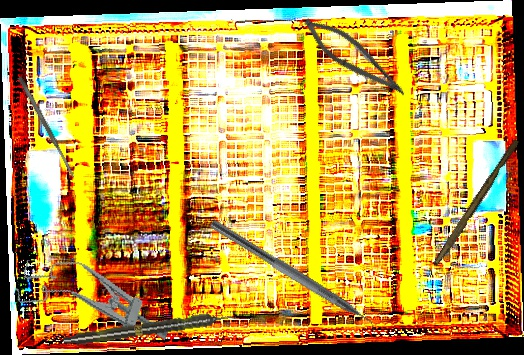Chopper: (200, 218, 391, 345)
Handpiece: (62, 309, 237, 349)
Micro Scissor: (295, 10, 416, 103)
Scalpel Handle: (432, 137, 521, 269)
Spatula Surgical: (17, 75, 76, 179)
Speculum: (12, 245, 180, 352)
